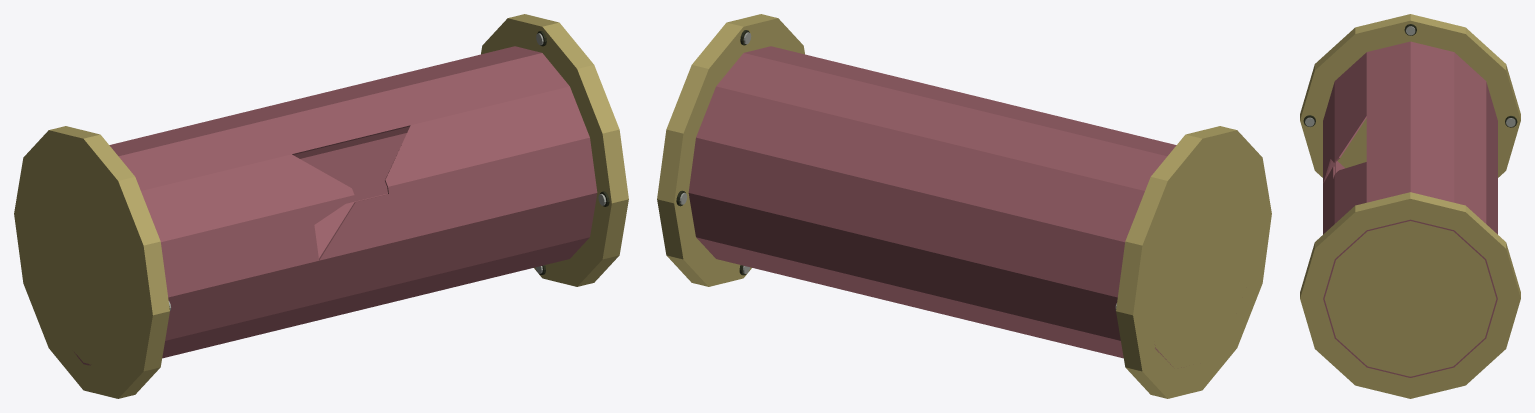
File: Pipe_Small_Broken_M.fbx
3 renders of one model, left to right at view 1: azimuth 30°, elevation 25°; view 2: azimuth 150°, elevation 25°; view 3: azimuth 270°, elevation 25°, orthographic. The views are drawn at different scales.
Visible parts, largest first — view 1: Pipe_Small_Broken_M, Cylinder.134, Cylinder.139; view 2: Pipe_Small_Broken_M, Cylinder.134, Cylinder.139; view 3: Cylinder.139, Pipe_Small_Broken_M, Cylinder.134.
Boxes of the visible parts, x1=… form: Pipe_Small_Broken_M: x1=74, y1=46, x2=597, y2=365; Cylinder.134: x1=14, y1=126, x2=169, y2=398; Cylinder.139: x1=481, y1=14, x2=628, y2=286; Pipe_Small_Broken_M: x1=688, y1=46, x2=1181, y2=367; Cylinder.134: x1=1116, y1=126, x2=1271, y2=398; Cylinder.139: x1=657, y1=14, x2=804, y2=286; Cylinder.139: x1=1300, y1=192, x2=1520, y2=398; Pipe_Small_Broken_M: x1=1323, y1=41, x2=1497, y2=377; Cylinder.134: x1=1300, y1=14, x2=1520, y2=177.
Bounding box in the file's own units: 30 × 15.16 × 15.16.
